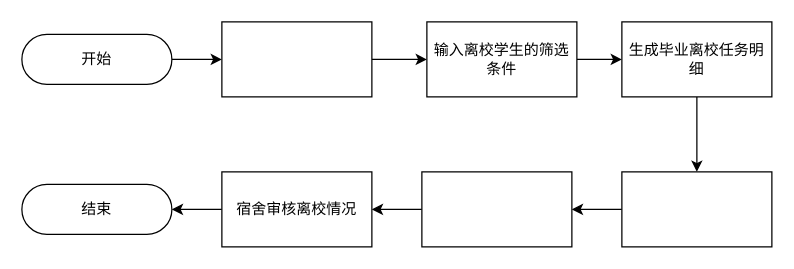
Some shapes in this 794 by 269 pixel diagram are drawn without their labels. Each missing label, with the box of its shape:
保存确认: (621, 171, 772, 247)
学生按照要求执行: (421, 171, 572, 247)
新建毕业生离校任务: (221, 21, 372, 97)
